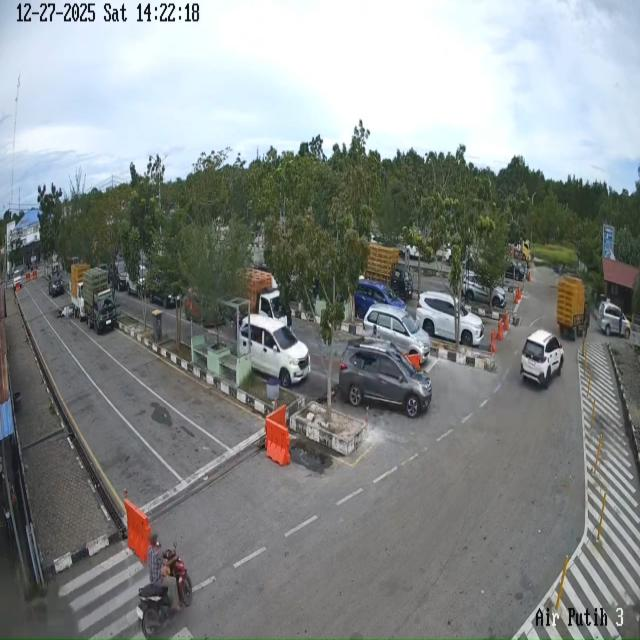Golongan IVA: (339, 338, 432, 418), (240, 314, 310, 388), (363, 304, 430, 364), (416, 291, 484, 347), (520, 330, 564, 388), (354, 279, 406, 320), (463, 271, 506, 309), (598, 300, 631, 338), (48, 272, 65, 298)
Golongan IVB: (83, 269, 117, 336)
Golongan VB: (556, 276, 586, 340)
